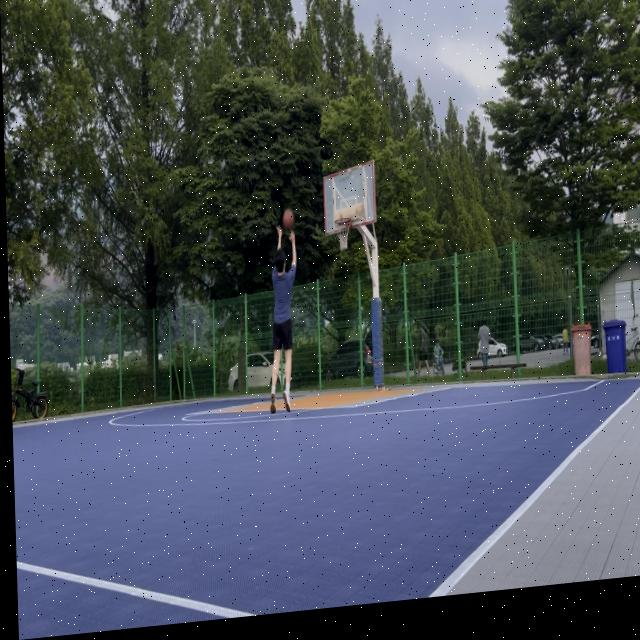basketball: (282, 207, 295, 232)
hoop: (334, 217, 352, 253)
